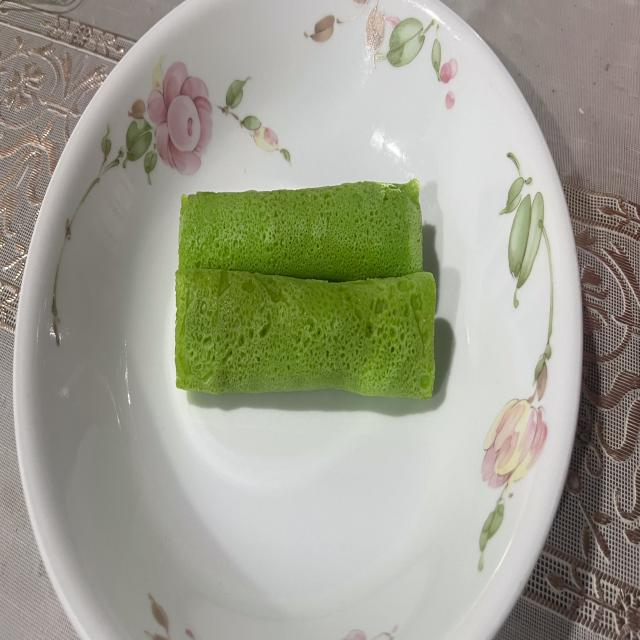Kuih-Ketayap: (175, 269, 435, 398), (179, 180, 422, 282)
